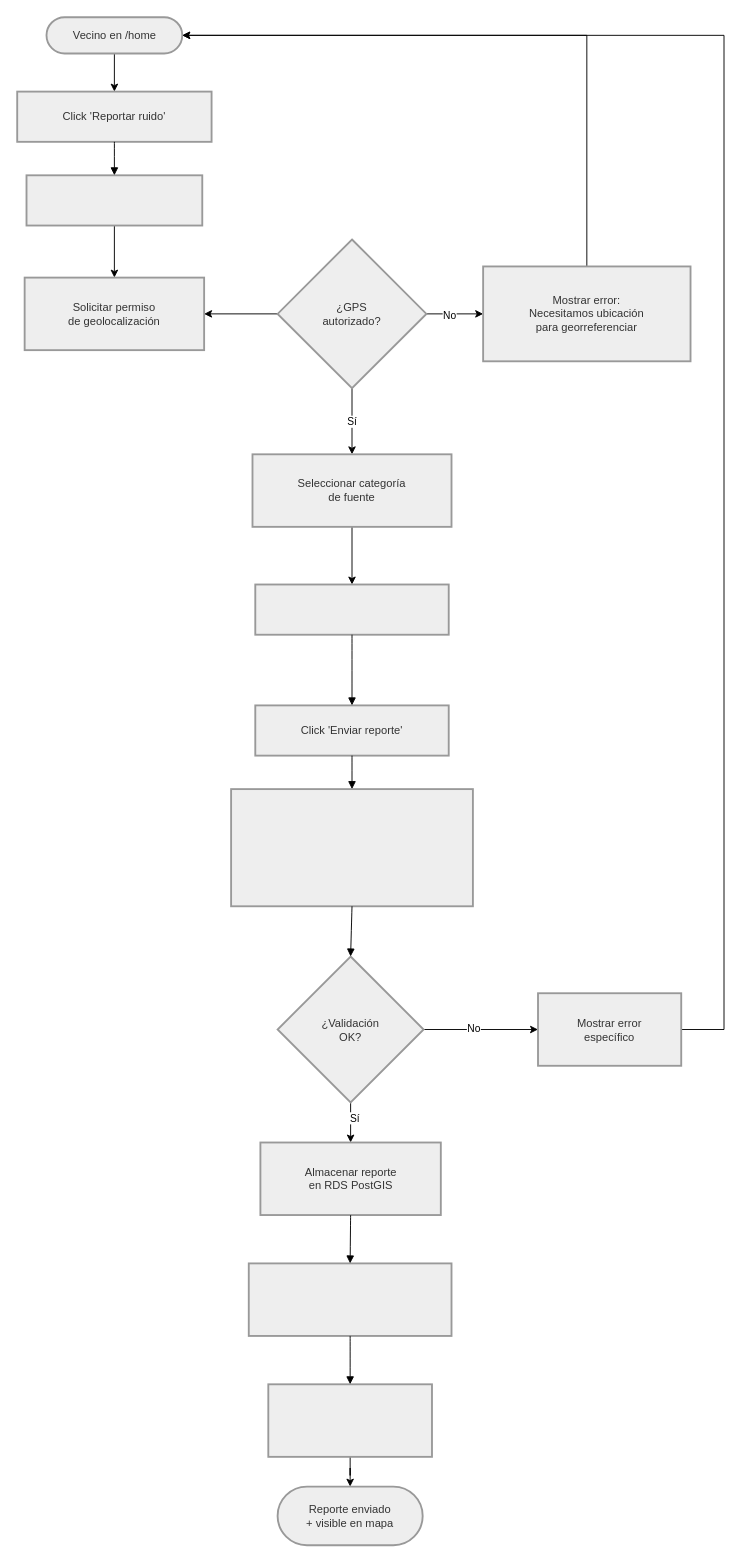
Image size: 748x1561. Some labels were removed from this diagram. Here are the shapes that lost their labels. From the top down, the centre of each, then its label:
At point (114, 200): "Navegar a /report".
At point (351, 609): "Comentario opcional".
At point (351, 847): "Backend valida el reporte".
At point (349, 1299): "Ejecutar cruce con sensores cercanos".
At point (349, 1420): "Asignar índice de confiabilidad".
